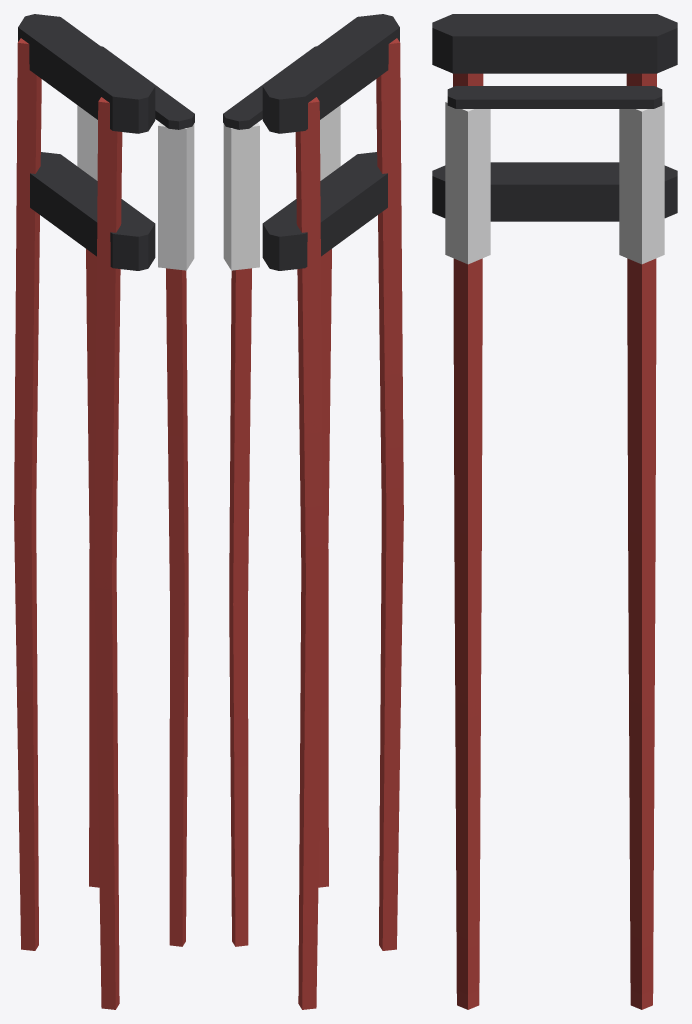
File: chopper_springer_chrome_upper_lod2.glb
3 views of the same model, side by side, from view 1: azimuth 30°, elevation 25°; view 2: azimuth 150°, elevation 25°; view 3: azimuth 270°, elevation 25° (orthographic). The views are drawn at different scales.
Visible parts, largest first — view 1: chopper_springer_chrome_upper_lod2; view 2: chopper_springer_chrome_upper_lod2; view 3: chopper_springer_chrome_upper_lod2.
Part boxes in pixels (box(x1,y1,x2,y2)): chopper_springer_chrome_upper_lod2: box(14, 14, 194, 1009); chopper_springer_chrome_upper_lod2: box(223, 14, 403, 1009); chopper_springer_chrome_upper_lod2: box(432, 14, 677, 1009).
Size of the model in its own units: 0.1217 by 1.07 by 0.24.
